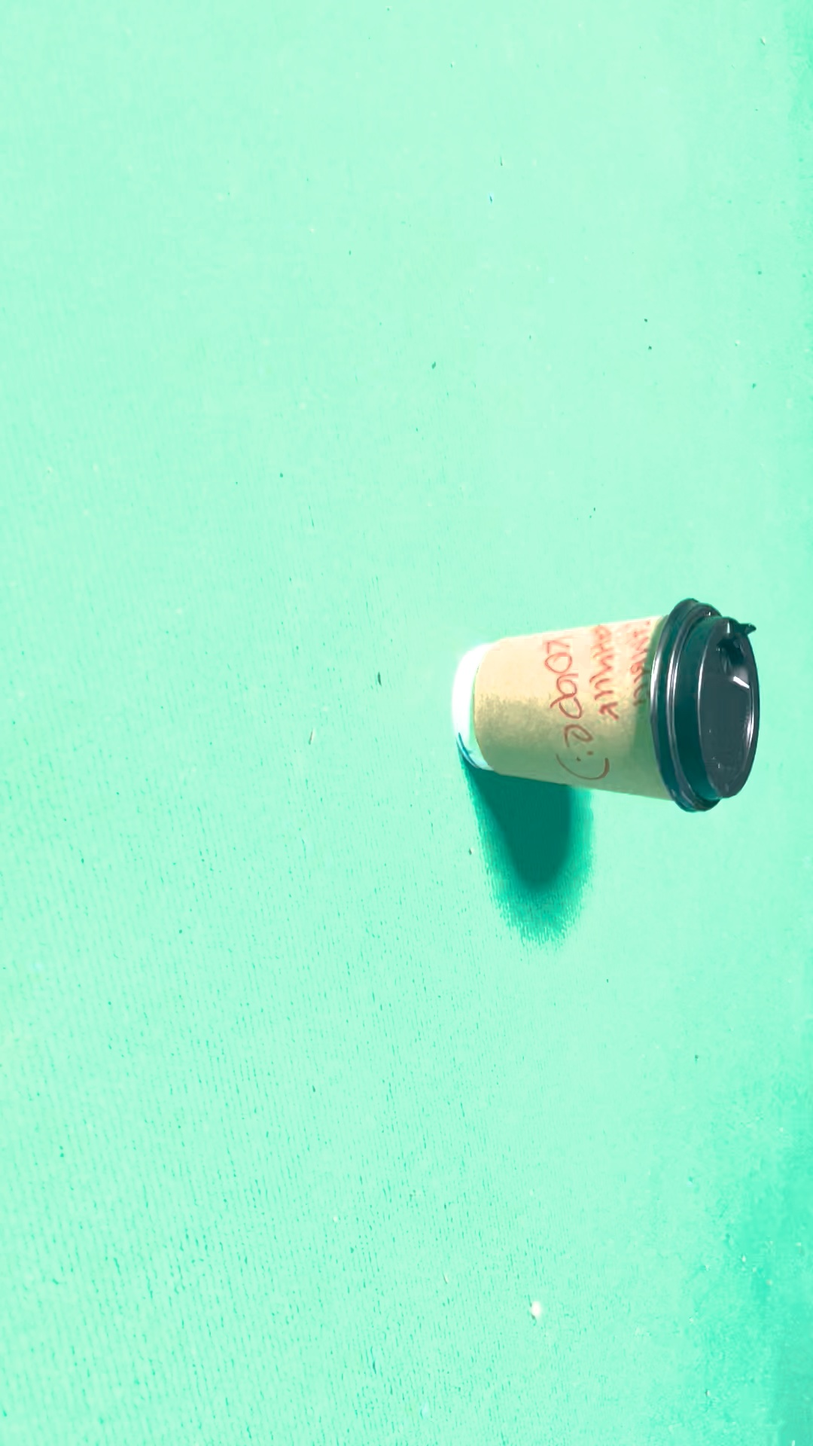cup: (408, 377, 494, 794)
